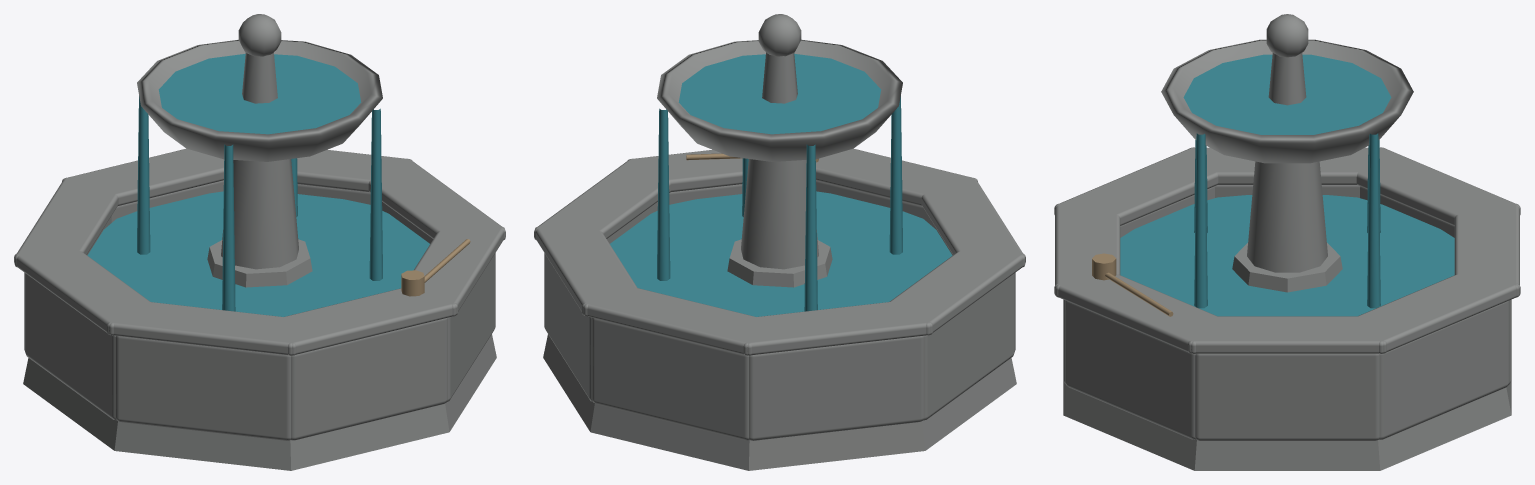
Rendered from village-fountain.glb.
3 renders of one model, left to right at view 1: azimuth 30°, elevation 25°; view 2: azimuth 150°, elevation 25°; view 3: azimuth 270°, elevation 25°, orthographic.
Visible parts, largest first — view 1: village-stone, village-water, planks; view 2: village-stone, village-water; view 3: village-stone, village-water, planks.
Part boxes in pixels (x1,y1,x2,y2): village-stone: (14,14,505,470); village-water: (87,53,429,316); planks: (401,239,470,296); village-stone: (534,14,1025,470); village-water: (610,53,952,316); village-stone: (1054,14,1520,470); village-water: (1120,54,1454,316); planks: (1092,253,1173,316).
Bounding box in the file's own units: 2.29 × 1.95 × 2.29.
